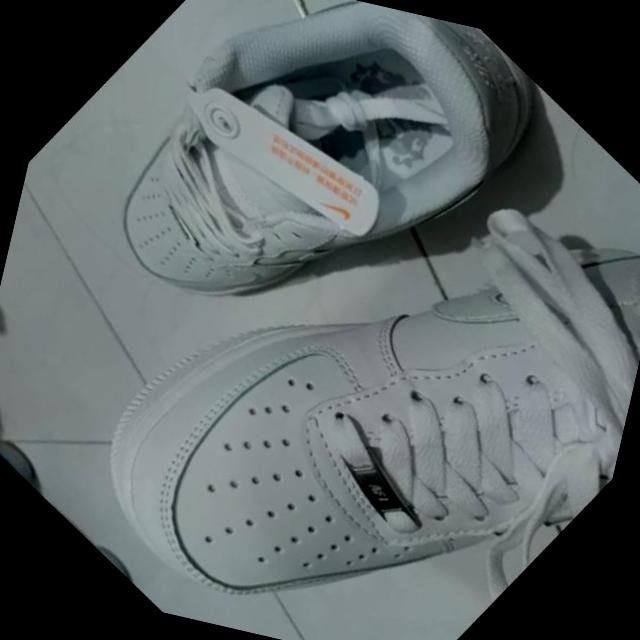nike_fake_airforce: (31, 0, 640, 640), (32, 0, 575, 449)
